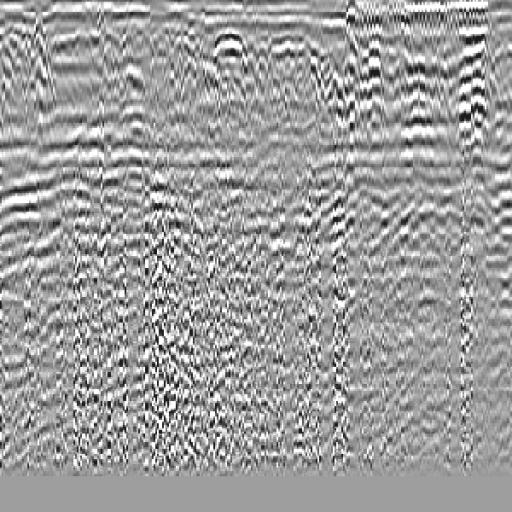non-metallic: (200, 27, 263, 90)
